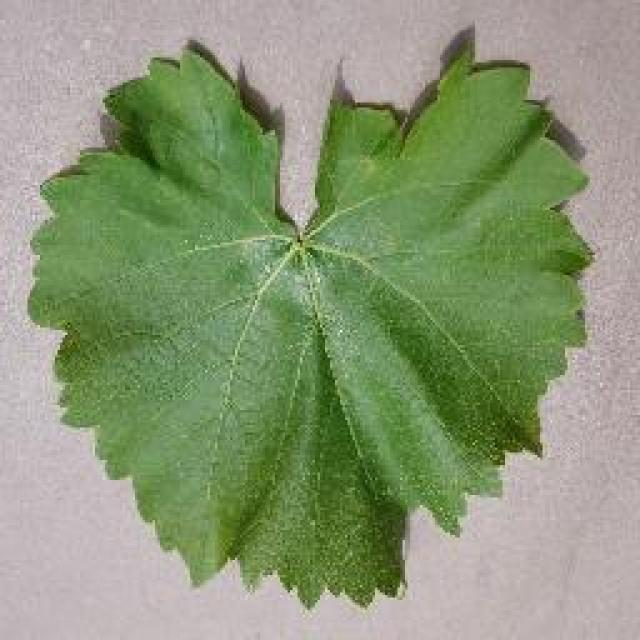Grape___healthy: (22, 40, 602, 618)
